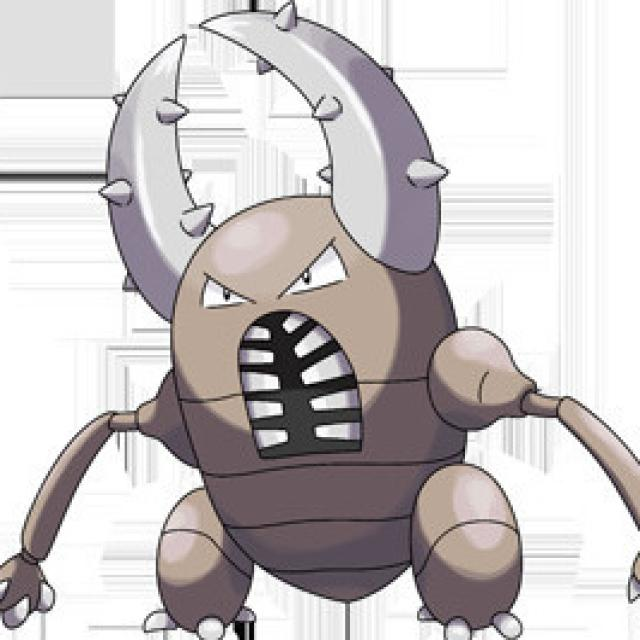Pinsir: (93, 0, 518, 640)
